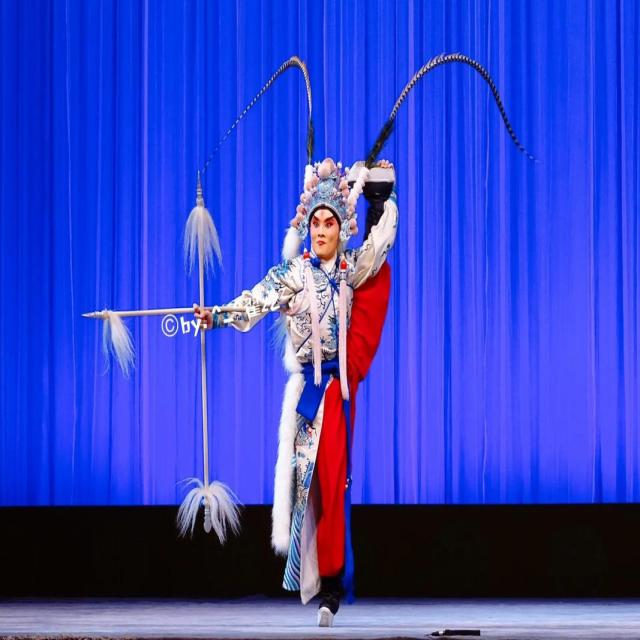Reeves-s Pheasant: (389, 48, 547, 165)
